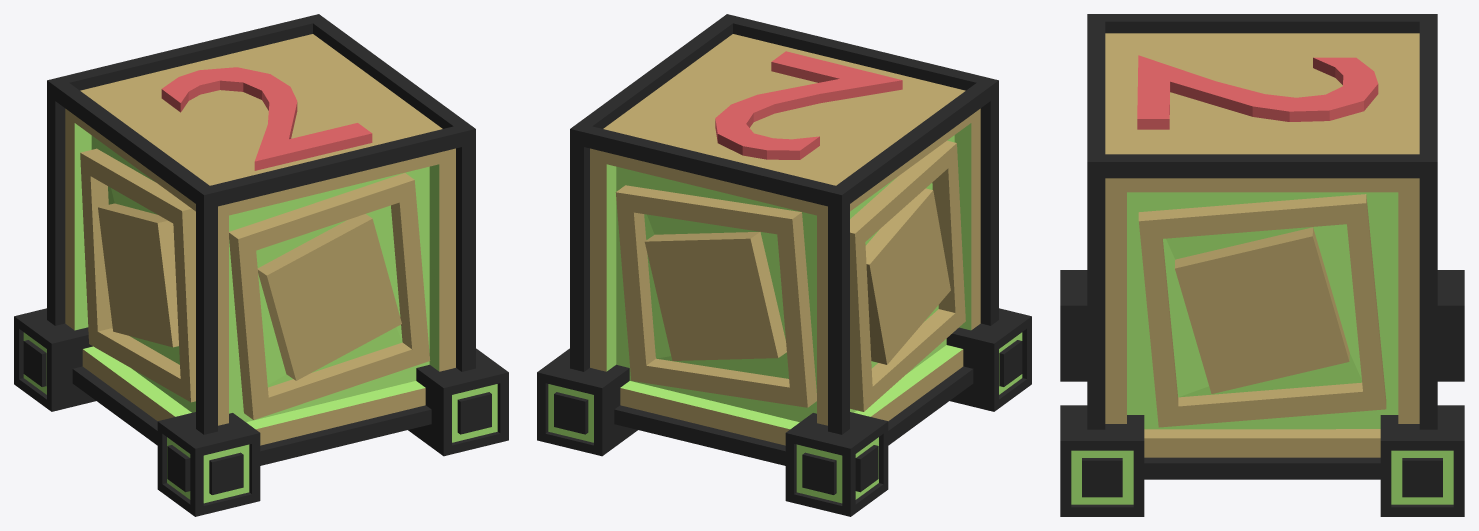
The model's file is BasicBlock2.fbx.
3 renders of one model, left to right at view 1: azimuth 30°, elevation 25°; view 2: azimuth 150°, elevation 25°; view 3: azimuth 270°, elevation 25°, orthographic. The views are drawn at different scales.
Parts seen in each view (by area): view 1: Mesh; view 2: Mesh; view 3: Mesh.
Boxes of the visible parts, x1,y1,x2,y2 form: Mesh: [14, 14, 508, 516]; Mesh: [537, 14, 1031, 516]; Mesh: [1060, 14, 1464, 516].
Bounding box in the file's own units: 0.7928 × 0.7434 × 0.7928.
